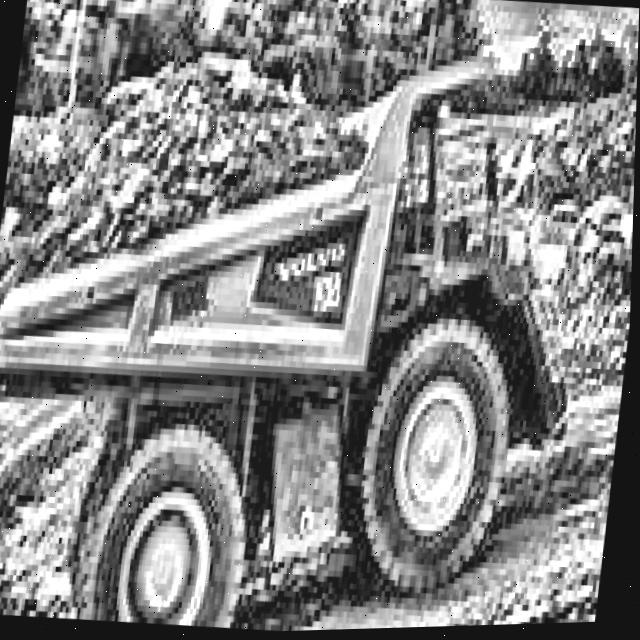dump_truck: (0, 0, 619, 640)
